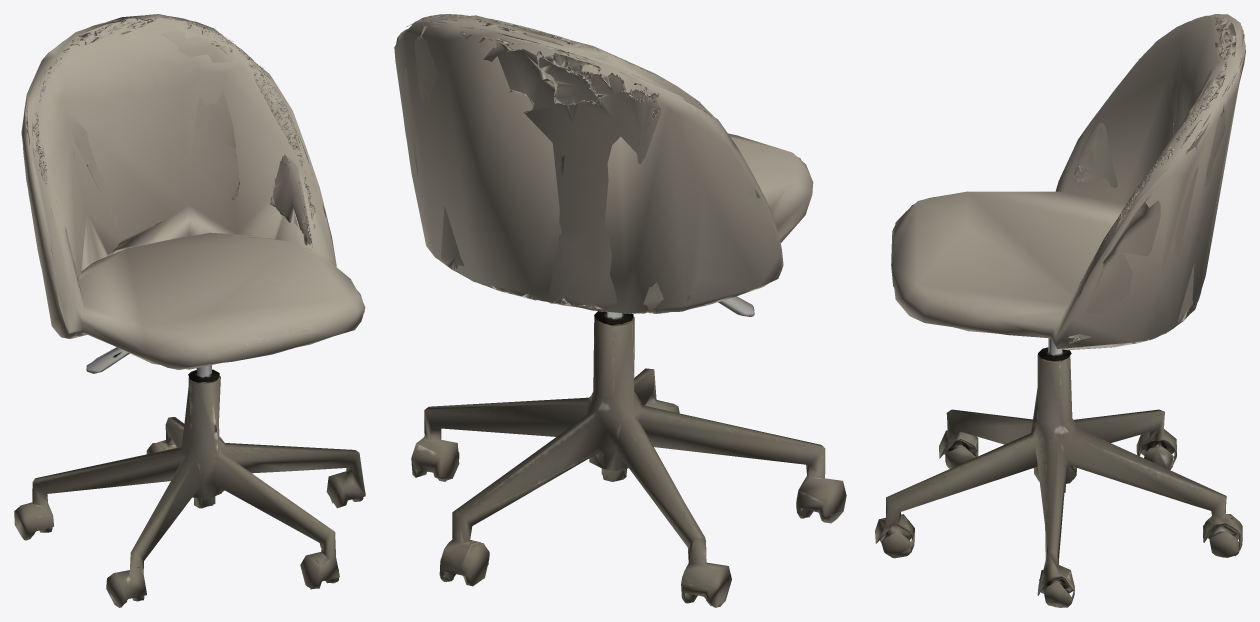
Rendered from furnimesh-desk-chair.glb.
3 renders of one model, left to right at view 1: azimuth 30°, elevation 25°; view 2: azimuth 150°, elevation 25°; view 3: azimuth 270°, elevation 25°, orthographic. The views are drawn at different scales.
Parts seen in each view (by area): view 1: desk-chair-normalized; view 2: desk-chair-normalized; view 3: desk-chair-normalized.
Boxes of the visible parts, <box> form: desk-chair-normalized: <box>14,14,365,607</box>; desk-chair-normalized: <box>394,14,846,607</box>; desk-chair-normalized: <box>875,14,1245,607</box>.
Bounding box in the file's own units: 0.55 × 0.82 × 0.56.
1 material, 1 textured.
